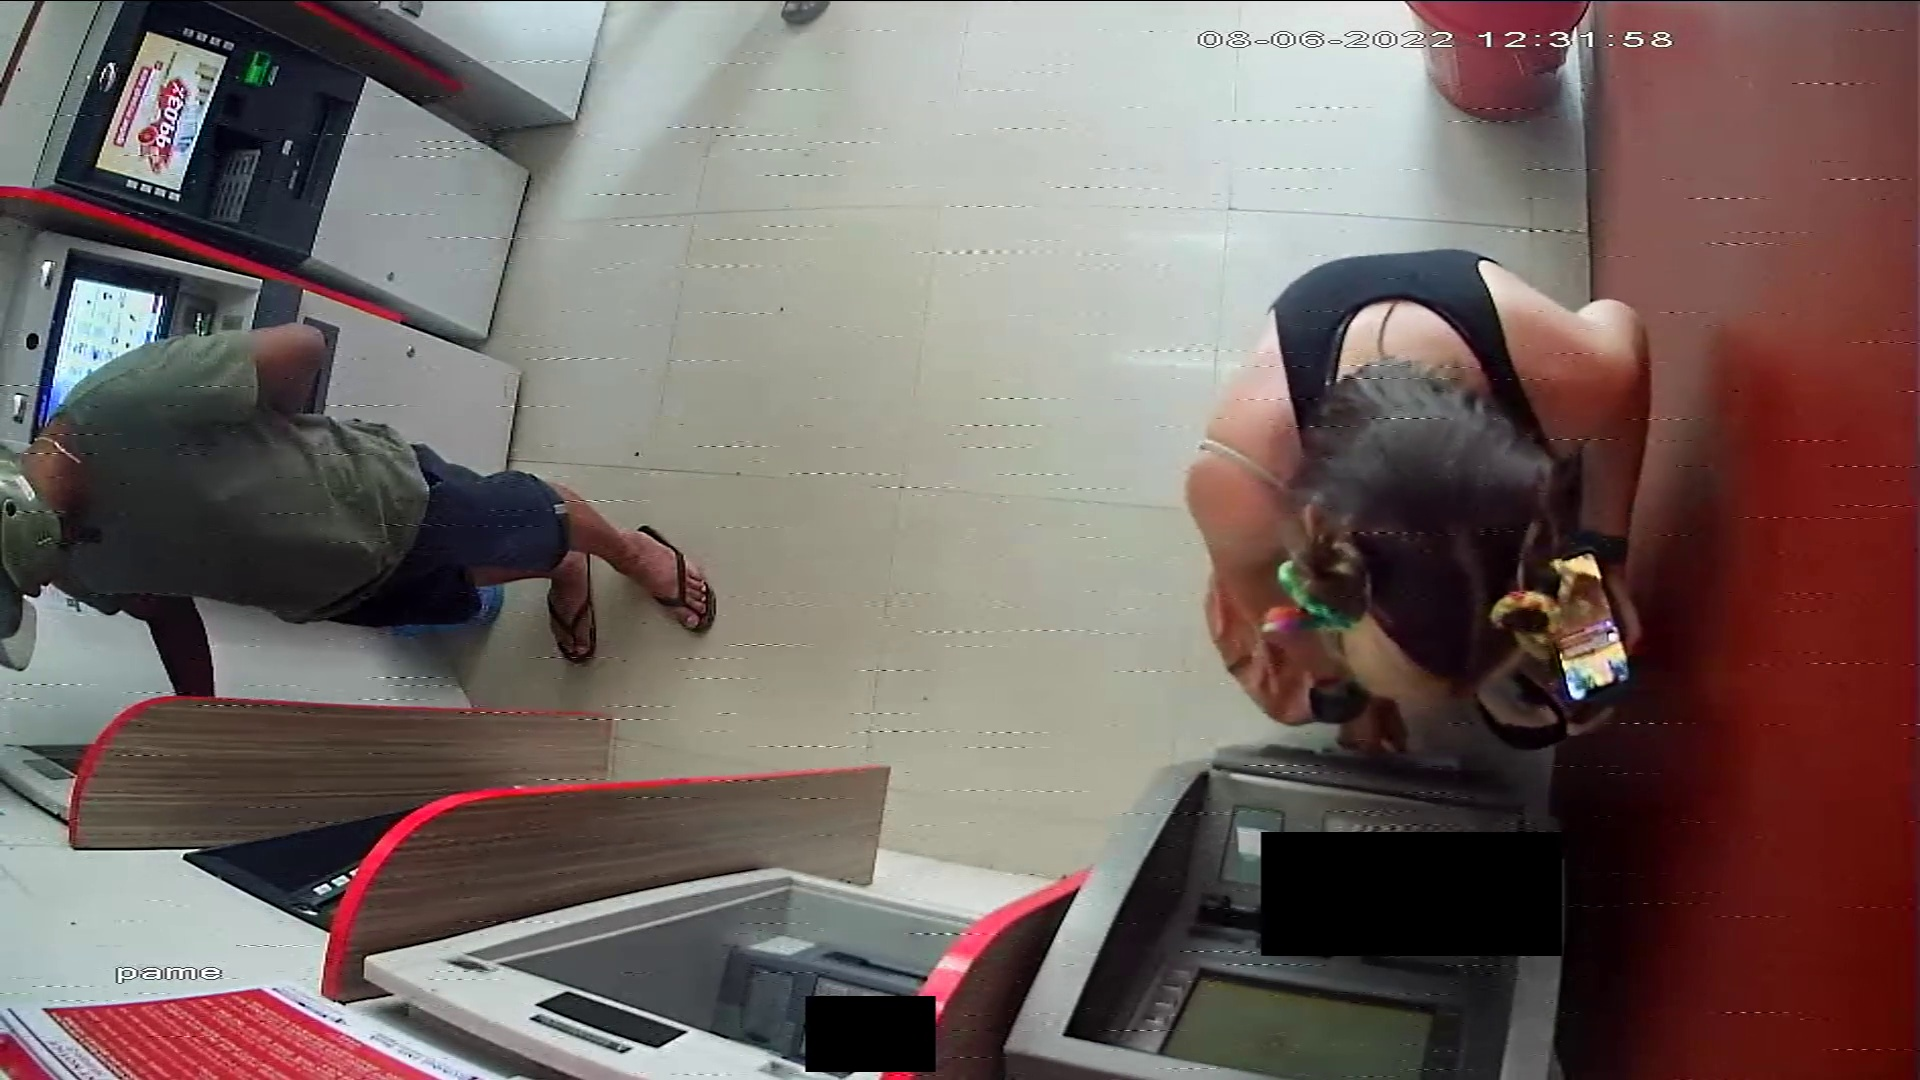helmet: (1, 447, 61, 672)
person: (3, 325, 720, 698), (1, 323, 718, 696), (1186, 248, 1653, 763)
phone: (1541, 549, 1634, 701)
